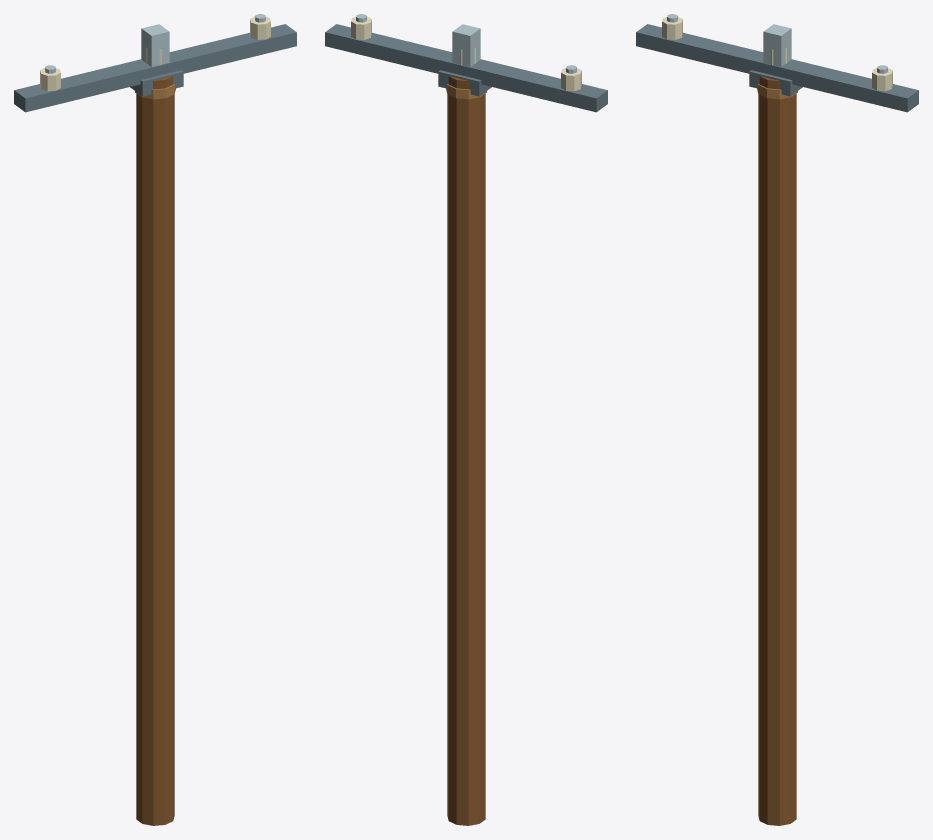
Rendered from PowerPole.glb.
The picture shows the model from 3 angles, left to right: view 1: azimuth 30°, elevation 25°; view 2: azimuth 150°, elevation 25°; view 3: azimuth 330°, elevation 25°; orthographic projection.
Parts seen in each view (by area): view 1: PowerPole_StaticMesh; view 2: PowerPole_StaticMesh; view 3: PowerPole_StaticMesh.
Boxes of the visible parts, x1=… form: PowerPole_StaticMesh: x1=14, y1=14, x2=296, y2=825; PowerPole_StaticMesh: x1=325, y1=14, x2=607, y2=825; PowerPole_StaticMesh: x1=636, y1=14, x2=918, y2=825.
Bounding box in the file's own units: 3.05 × 8.46 × 0.41.
